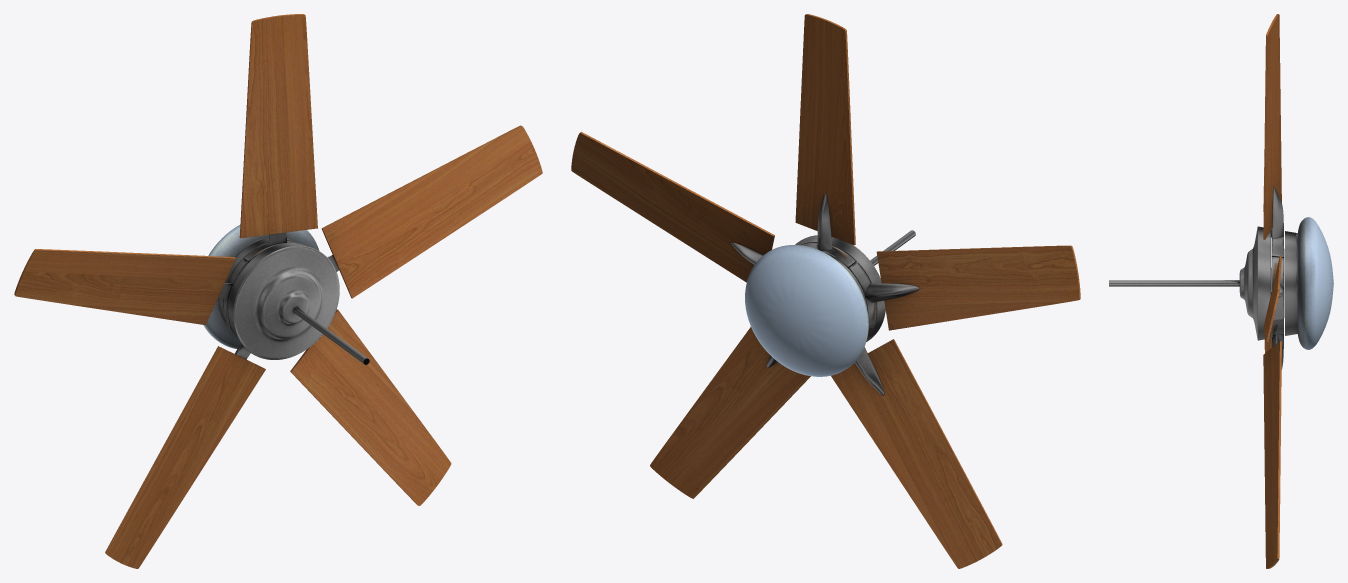
File: CFR1.obj
The picture shows the model from 3 angles, left to right: view 1: azimuth 30°, elevation 25°; view 2: azimuth 150°, elevation 25°; view 3: azimuth 270°, elevation 25°; orthographic projection. The views are drawn at different scales.
Parts seen in each view (by area): view 1: 10273_Fan, 10273_Ceiling_Fan; view 2: 10273_Fan, 10273_Ceiling_Fan; view 3: 10273_Fan, 10273_Ceiling_Fan.
Part boxes in pixels (<box>): 10273_Fan: <box>14,14,542,568</box>; 10273_Ceiling_Fan: <box>203,225,369,364</box>; 10273_Fan: <box>571,14,1080,568</box>; 10273_Ceiling_Fan: <box>745,230,915,376</box>; 10273_Fan: <box>1263,14,1283,568</box>; 10273_Ceiling_Fan: <box>1109,217,1333,349</box>.
Size of the model in its own units: 127 by 121 by 50.99.
